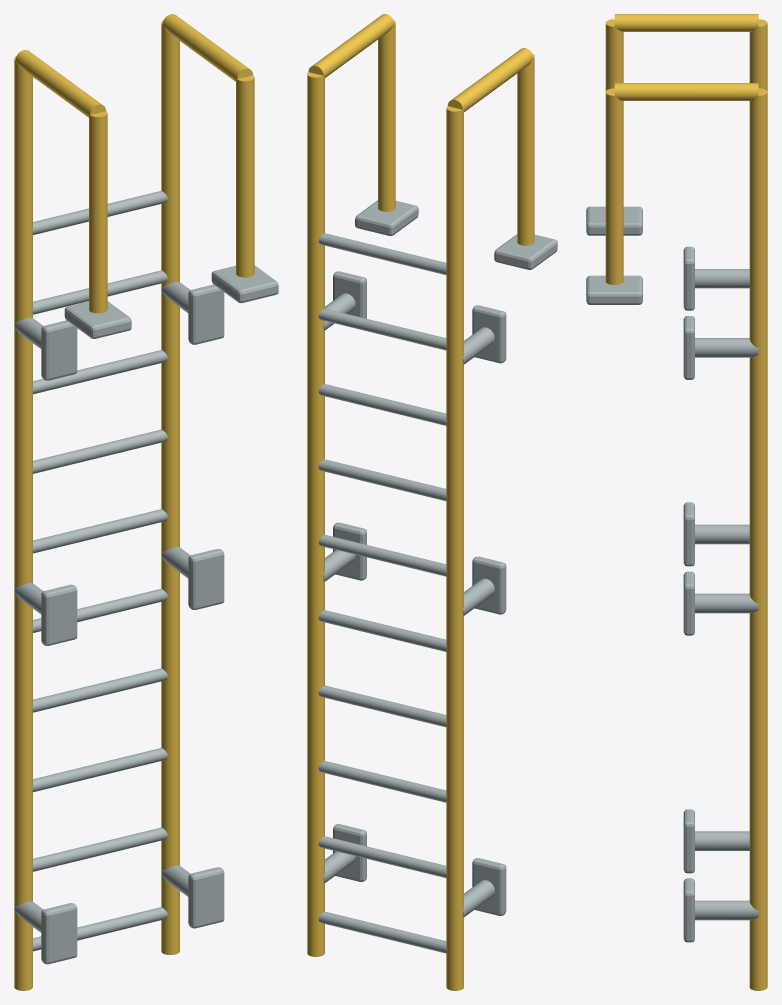
File: quay_ladder.glb
3 views of the same model, side by side, from view 1: azimuth 30°, elevation 25°; view 2: azimuth 150°, elevation 25°; view 3: azimuth 270°, elevation 25° (orthographic). The views are drawn at different scales.
Visible parts, largest first — view 1: quay_ladder; view 2: quay_ladder; view 3: quay_ladder.
Part boxes in pixels (bbox=[...]): quay_ladder: bbox=[14, 14, 278, 990]; quay_ladder: bbox=[307, 14, 557, 990]; quay_ladder: bbox=[586, 14, 767, 990].
Bounding box in the file's own units: 0.74 × 3.53 × 0.642.
